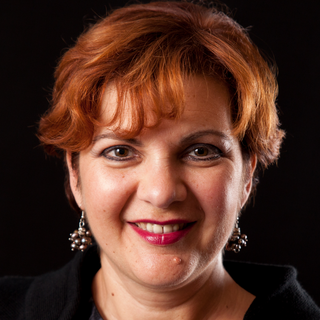eye: (172, 134, 237, 169), (87, 134, 142, 167)
